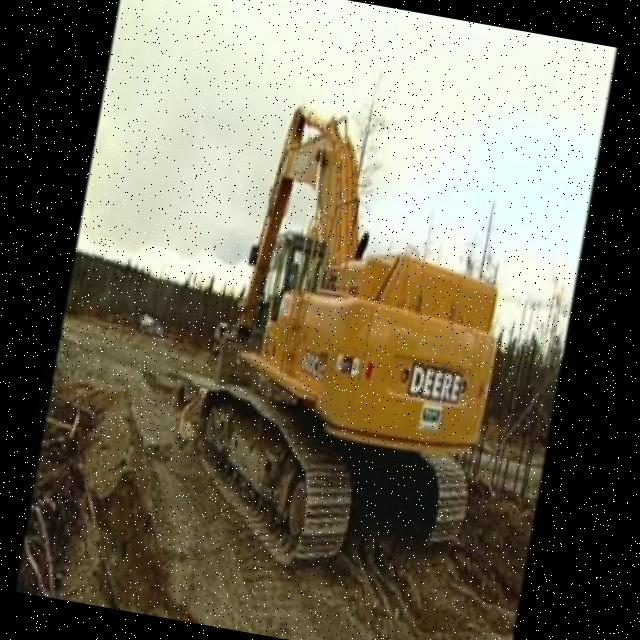Excavator: (159, 88, 537, 598)
